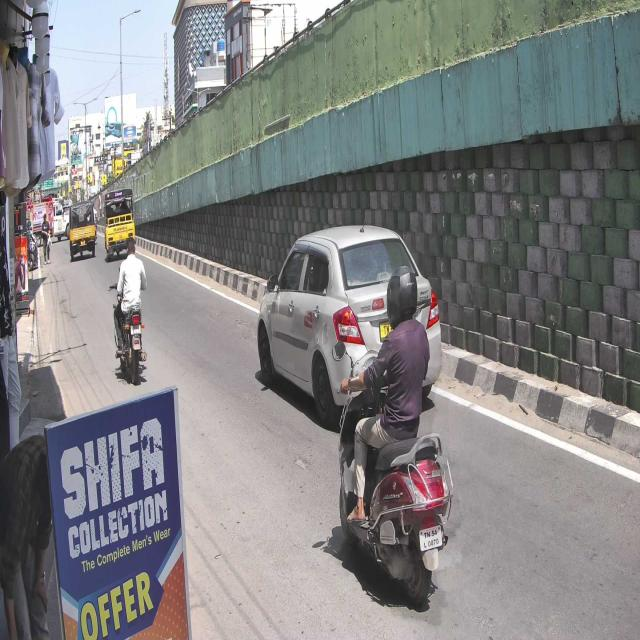single_rider: (331, 262, 455, 609), (109, 234, 147, 390)
